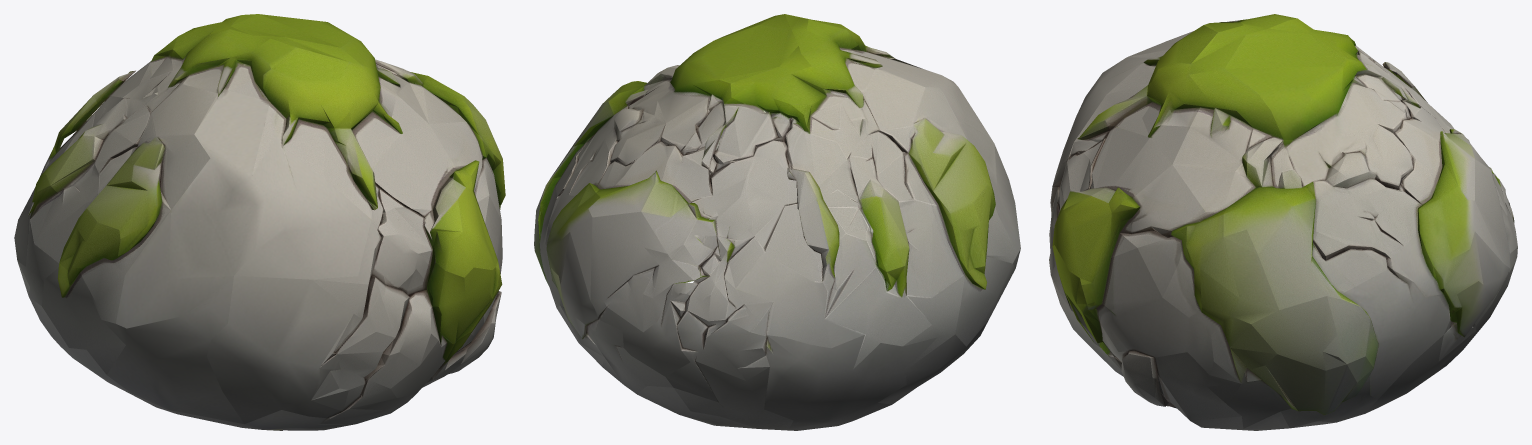
Rendered from mossy_rock.glb.
The picture shows the model from 3 angles, left to right: view 1: azimuth 30°, elevation 25°; view 2: azimuth 150°, elevation 25°; view 3: azimuth 270°, elevation 25°; orthographic projection. The views are drawn at different scales.
Parts seen in each view (by area): view 1: geometry_0; view 2: geometry_0; view 3: geometry_0.
Boxes of the visible parts, bbox=[...] form: geometry_0: bbox=[14, 14, 505, 430]; geometry_0: bbox=[534, 14, 1020, 430]; geometry_0: bbox=[1049, 14, 1517, 430].
Size of the model in its own units: 1.5 by 1.21 by 1.47.
1 material, 1 textured.
